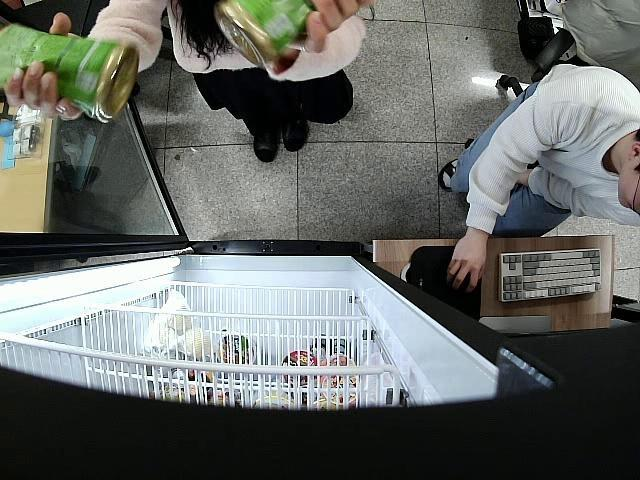19_17cha: (0, 18, 139, 124), (213, 0, 320, 69)
